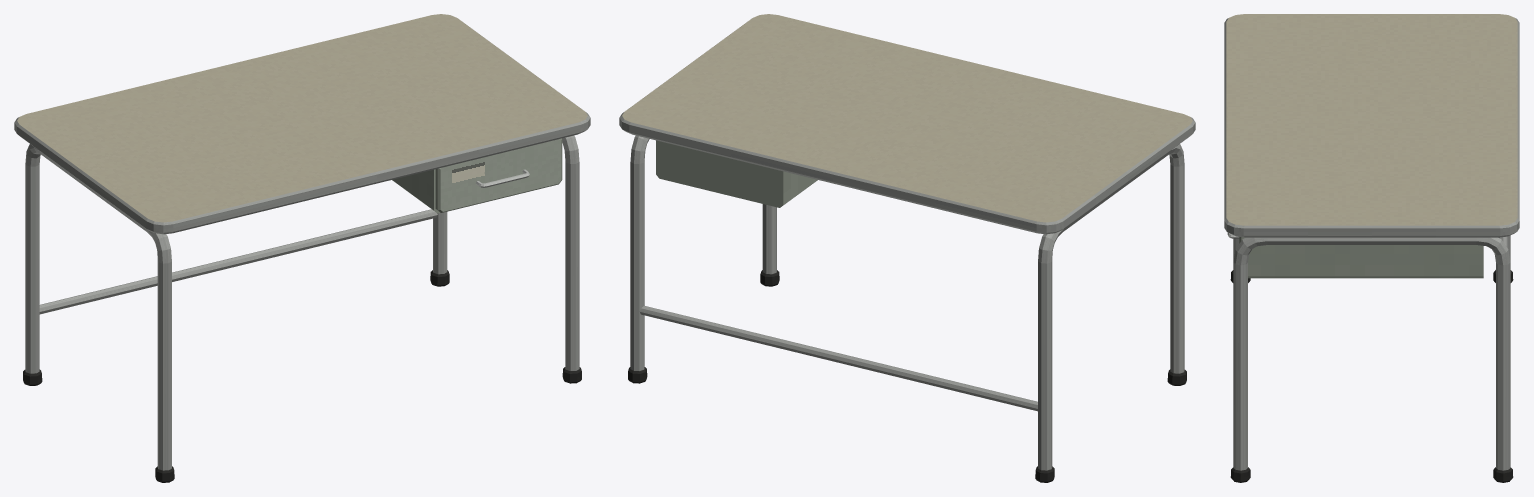
The model's file is table.glb.
3 renders of one model, left to right at view 1: azimuth 30°, elevation 25°; view 2: azimuth 150°, elevation 25°; view 3: azimuth 270°, elevation 25°, orthographic.
Visible parts, largest first — view 1: top_slab, side_frame_l, drawer_front, side_frame_r, stretcher, case_shell; view 2: top_slab, side_frame_l, case_shell, side_frame_r, stretcher; view 3: top_slab, side_frame_r, case_shell.
Part boxes in pixels (box(x1,y1,x2,y2)): top_slab: box(14, 14, 590, 234); side_frame_l: box(25, 144, 171, 470); drawer_front: box(435, 138, 562, 212); side_frame_r: box(433, 135, 579, 370); stretcher: box(39, 209, 437, 314); case_shell: box(392, 169, 433, 210); top_slab: box(619, 14, 1195, 234); side_frame_l: box(1038, 144, 1184, 470); case_shell: box(656, 140, 817, 207); side_frame_r: box(630, 135, 776, 370); stretcher: box(640, 305, 1037, 411); top_slab: box(1224, 14, 1519, 237); side_frame_r: box(1233, 237, 1510, 470); case_shell: box(1248, 245, 1483, 278).
Size of the model in its own units: 1.3 by 0.74 by 0.76.
1 material, 1 textured.
